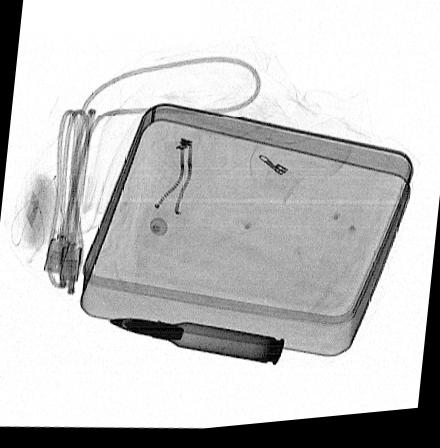Bullet: (106, 319, 283, 371)
